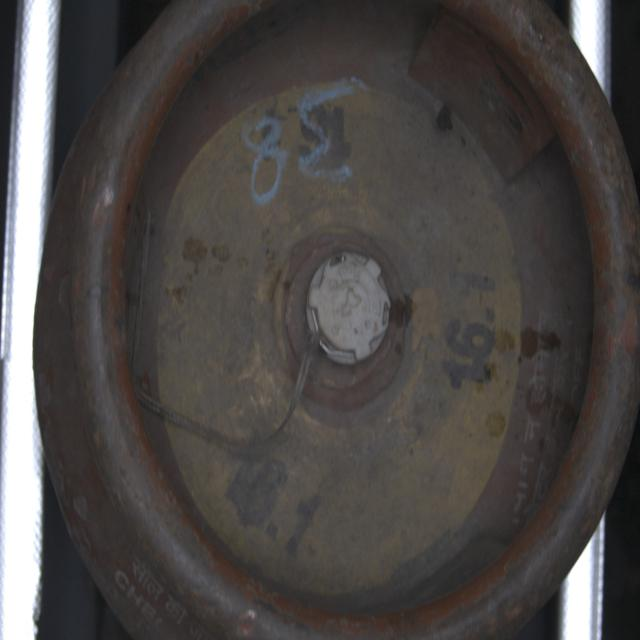Cap: (305, 249, 394, 371)
